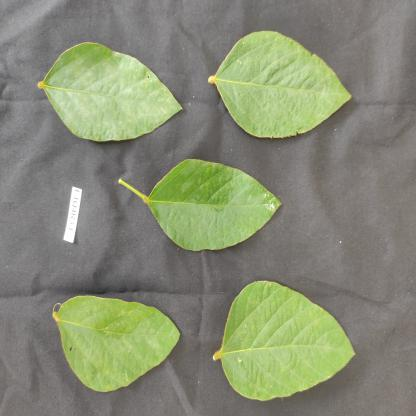label: (60, 170, 80, 243)
leaflets: (209, 13, 369, 153), (215, 264, 367, 407), (46, 263, 191, 412), (31, 34, 191, 153), (134, 146, 284, 264)
